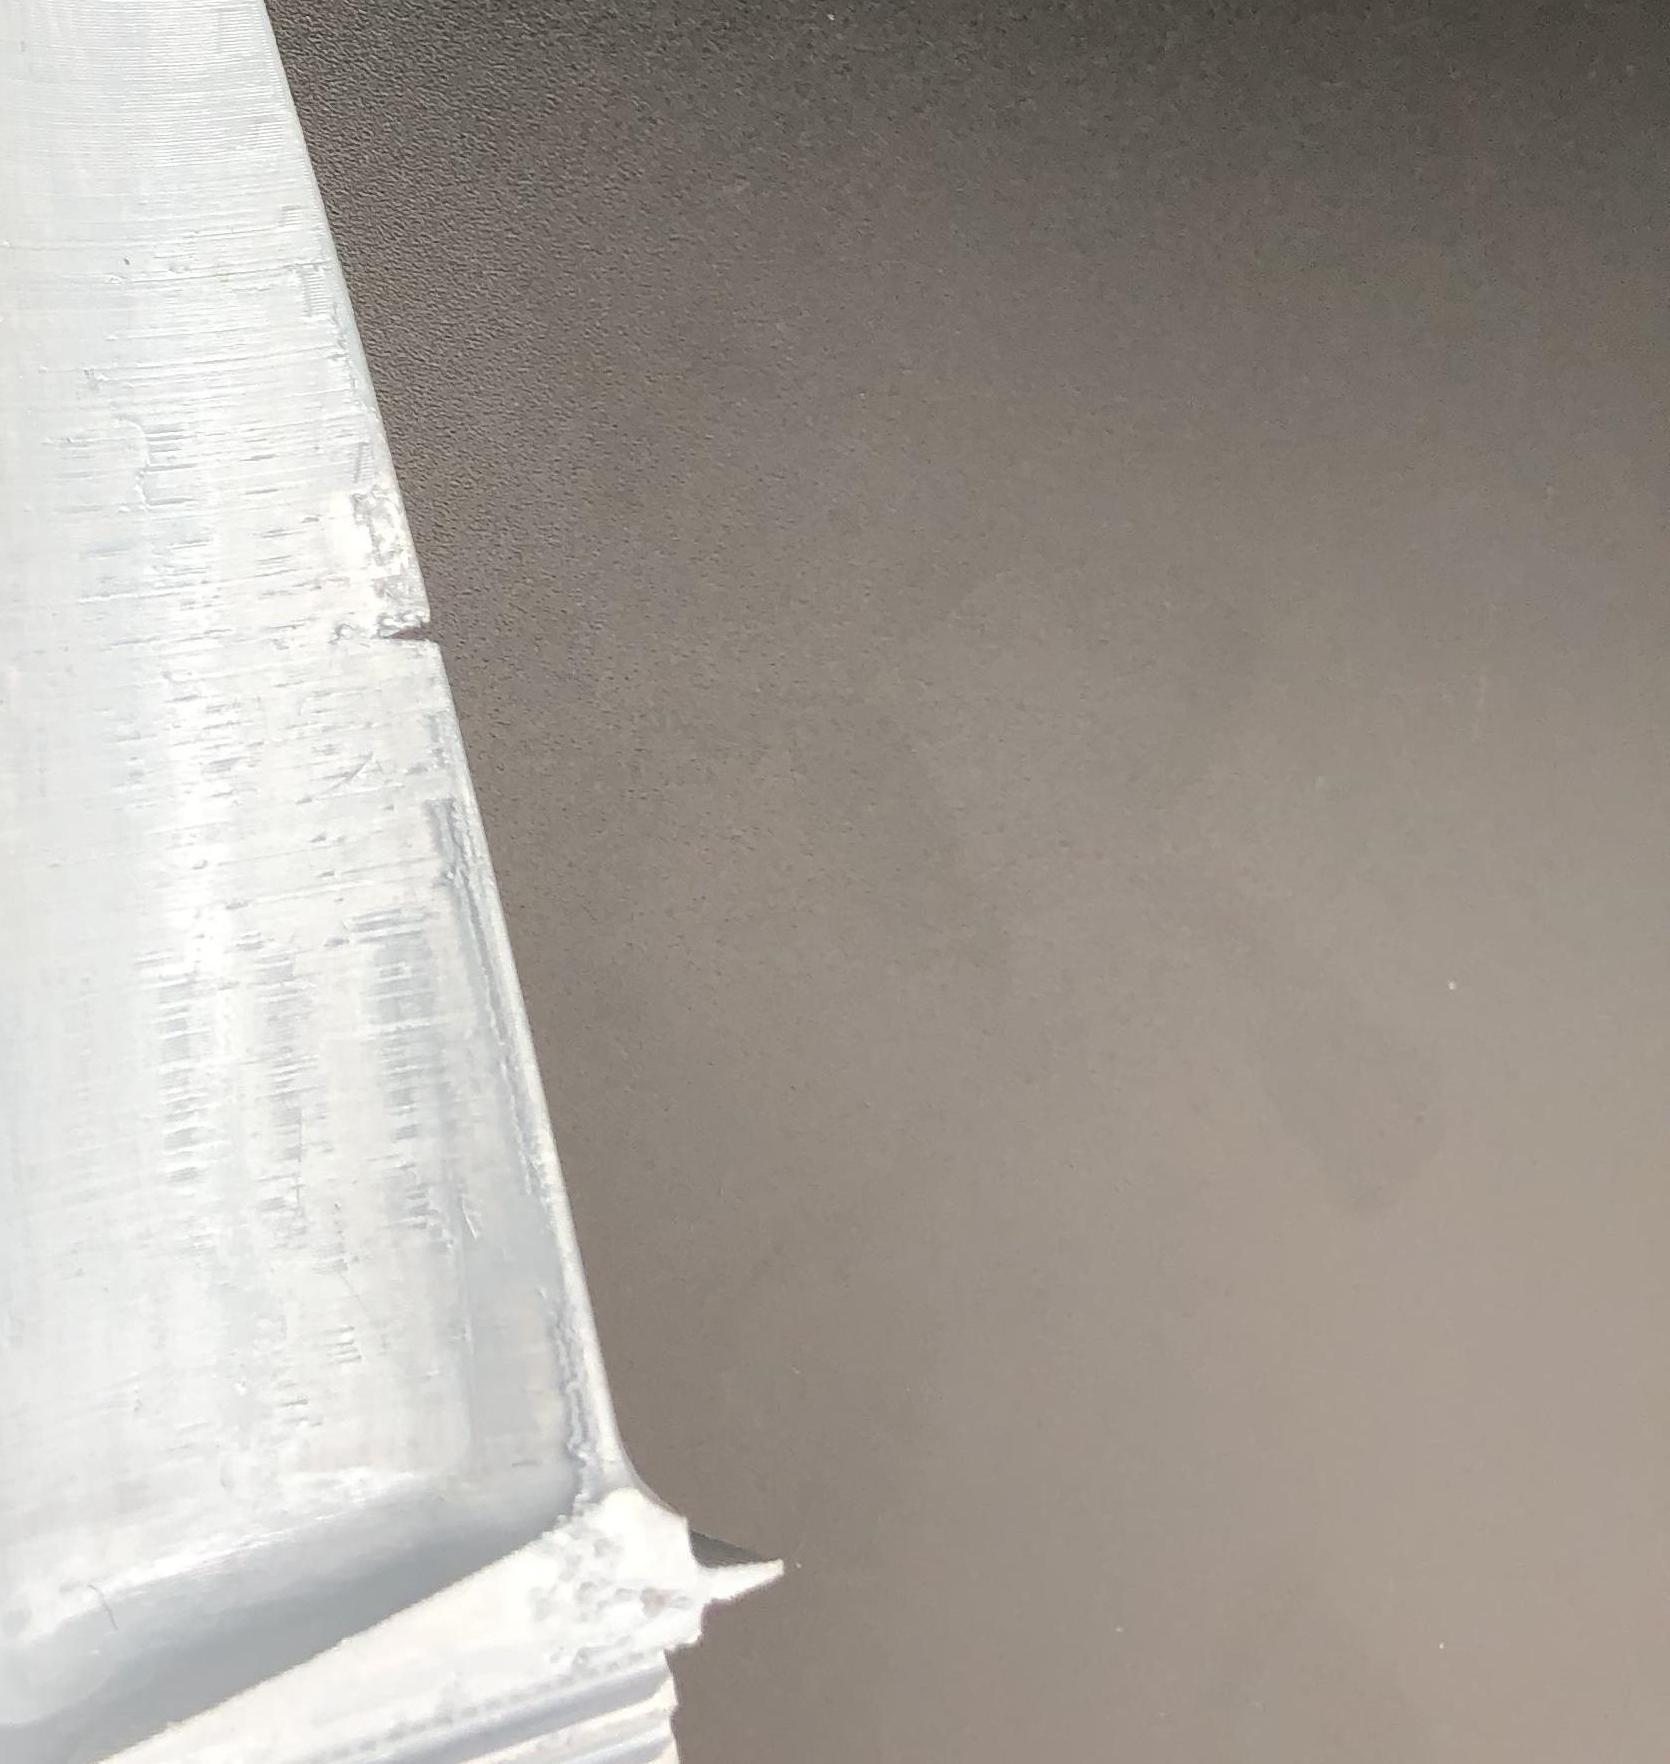groove: (369, 589, 458, 662)
